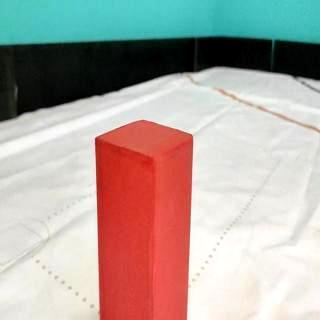redbox: (94, 117, 194, 320)
